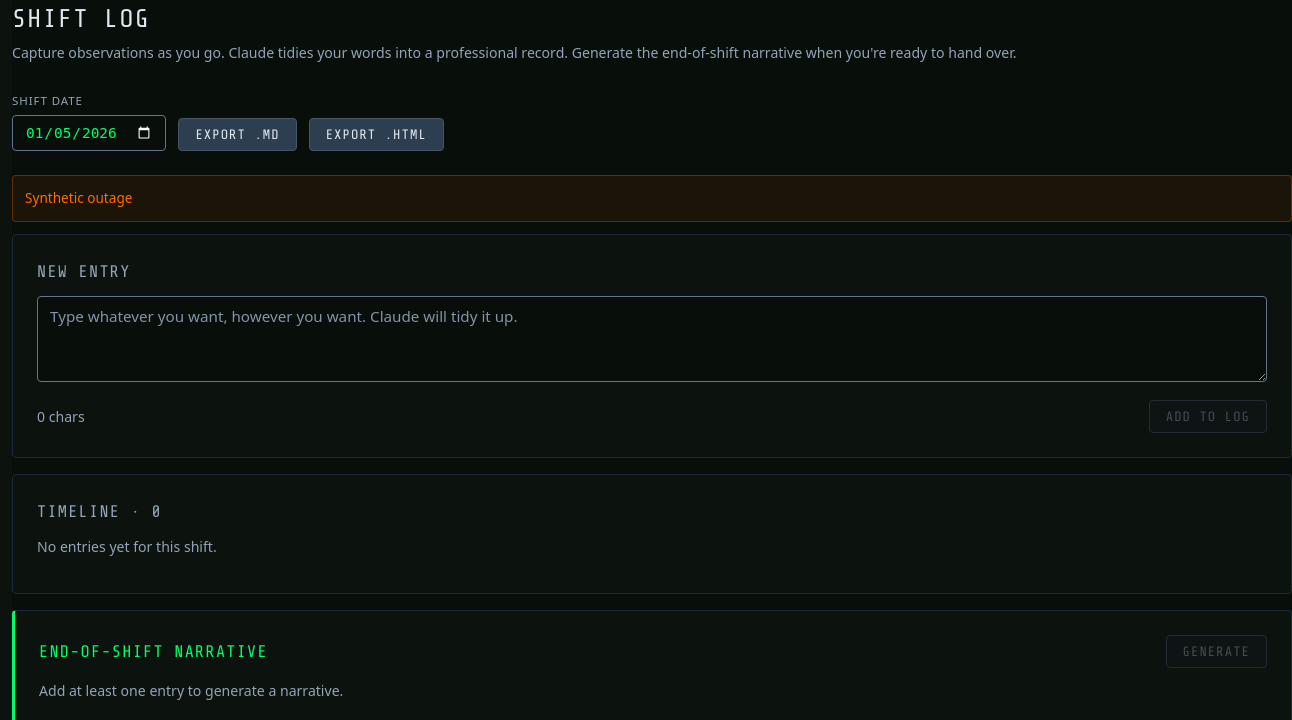
Scenario: the shift log page › shows the server's reason, or a fallback, when a shift cannot load
Expected: the text "Synthetic outage" is shown, [12, 175, 1291, 222]
In the date field labelled "Shift date": {"x": 89, "y": 133} [12, 115, 166, 151], type "2026-01-02"
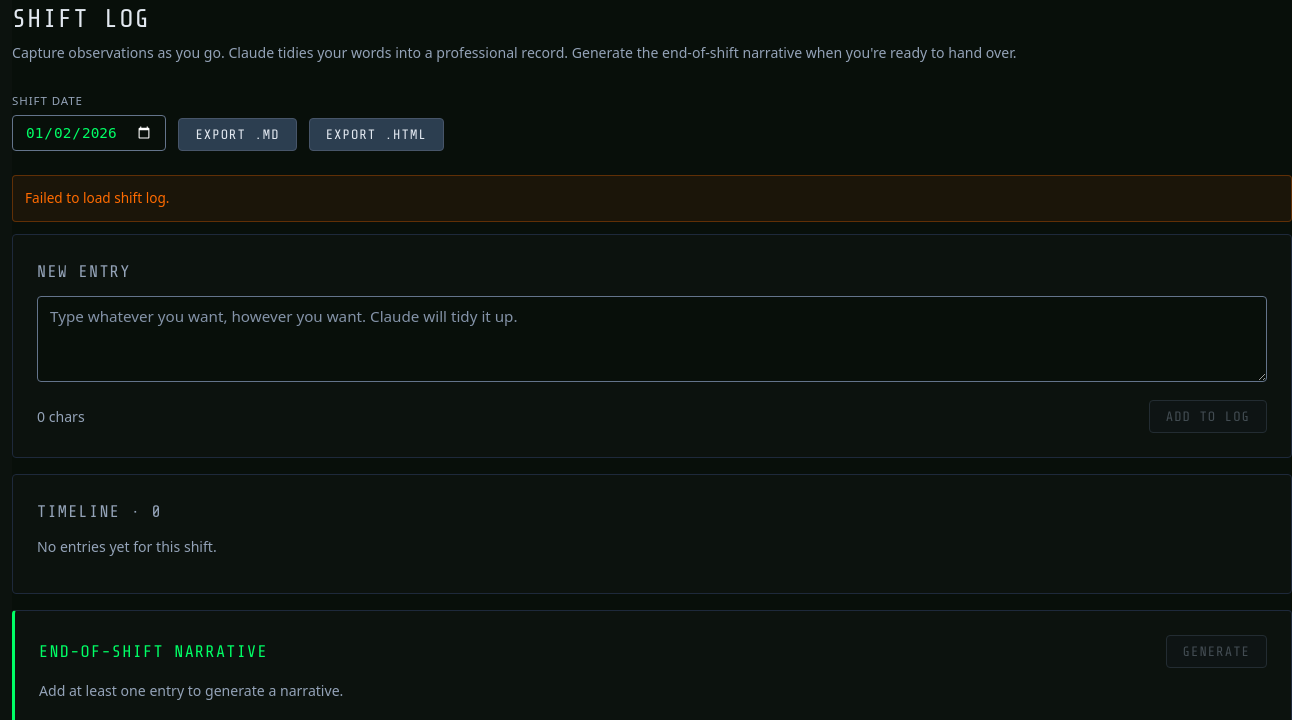
Expected: the text "Failed to load shift log." is shown, [12, 175, 1291, 222]
Expected: the text "Synthetic outage" is gone
